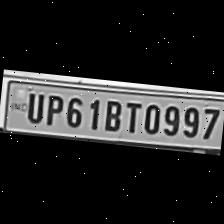0: (140, 99, 162, 134)
1: (83, 94, 103, 130)
6: (62, 92, 86, 128)
7: (197, 104, 220, 140)
9: (158, 100, 181, 136), (178, 102, 201, 138)
B: (99, 94, 125, 132)
P: (42, 90, 64, 126)
T: (120, 96, 144, 134)
U: (22, 87, 46, 122)
